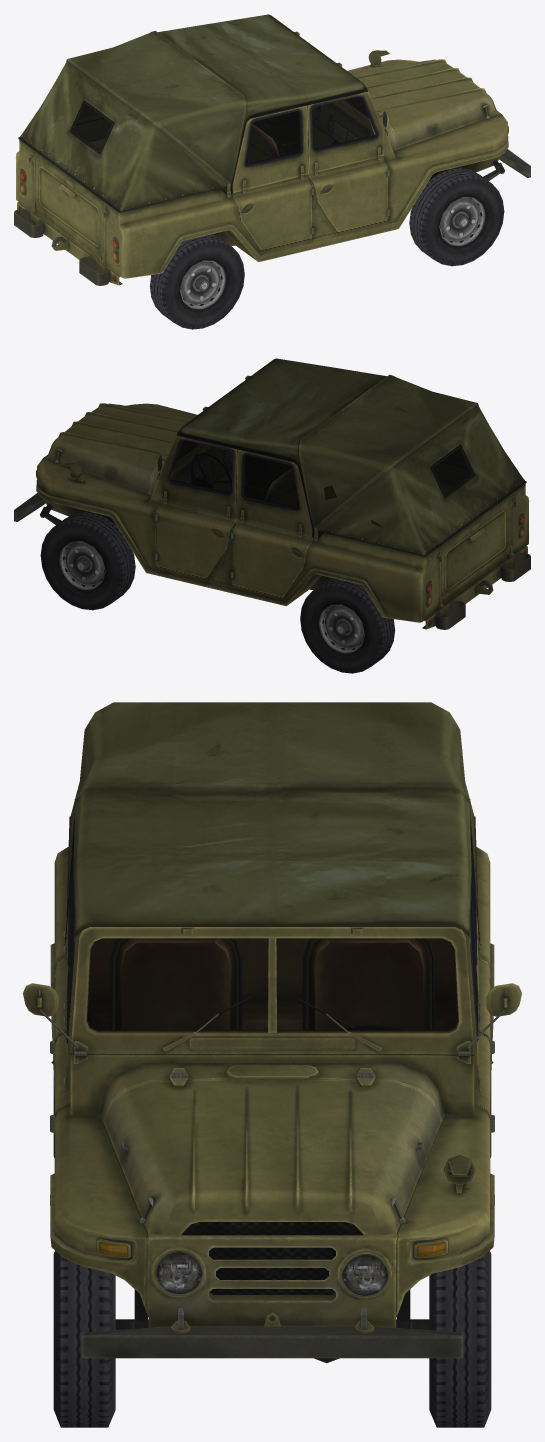
Rendered from bj212_china.glb.
3 renders of one model, top to bottom at view 1: azimuth 30°, elevation 25°; view 2: azimuth 150°, elevation 25°; view 3: azimuth 270°, elevation 25°, orthographic. The views are drawn at different scales.
Parts seen in each view (by area): view 1: mesh_282_mat_61_0, mesh_283_mat_62_0; view 2: mesh_282_mat_61_0, mesh_283_mat_62_0; view 3: mesh_282_mat_61_0, mesh_283_mat_62_0.
Boxes of the visible parts, left/top/right/bottom form: mesh_282_mat_61_0: left=14, top=14, right=530, bottom=329; mesh_283_mat_62_0: left=73, top=97, right=374, bottom=164; mesh_282_mat_61_0: left=14, top=358, right=530, bottom=673; mesh_283_mat_62_0: left=170, top=441, right=471, bottom=508; mesh_282_mat_61_0: left=23, top=702, right=521, bottom=1427; mesh_283_mat_62_0: left=86, top=938, right=458, bottom=1031.
Size of the model in its own units: 40.43 by 19.22 by 20.27.
2 materials, 2 textured.
